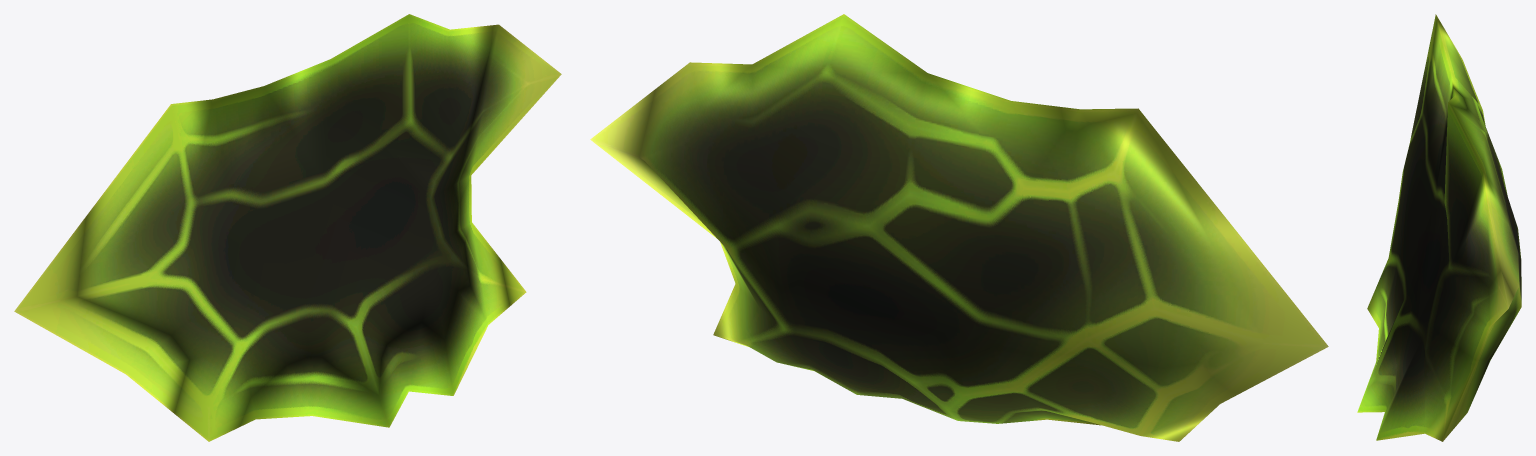
File: item_weashimgm2501-et04.glb
The picture shows the model from 3 angles, left to right: view 1: azimuth 30°, elevation 25°; view 2: azimuth 150°, elevation 25°; view 3: azimuth 270°, elevation 25°; orthographic projection. The views are drawn at different scales.
Parts seen in each view (by area): view 1: FlyffMesh; view 2: FlyffMesh; view 3: FlyffMesh.
Part boxes in pixels (x1,y1,x2,y2): FlyffMesh: (14, 14, 561, 441); FlyffMesh: (590, 14, 1328, 441); FlyffMesh: (1357, 14, 1521, 441).
Size of the model in its own units: 0.9364 by 0.5498 by 0.24.
Materials: 1 (1 with a texture image).
